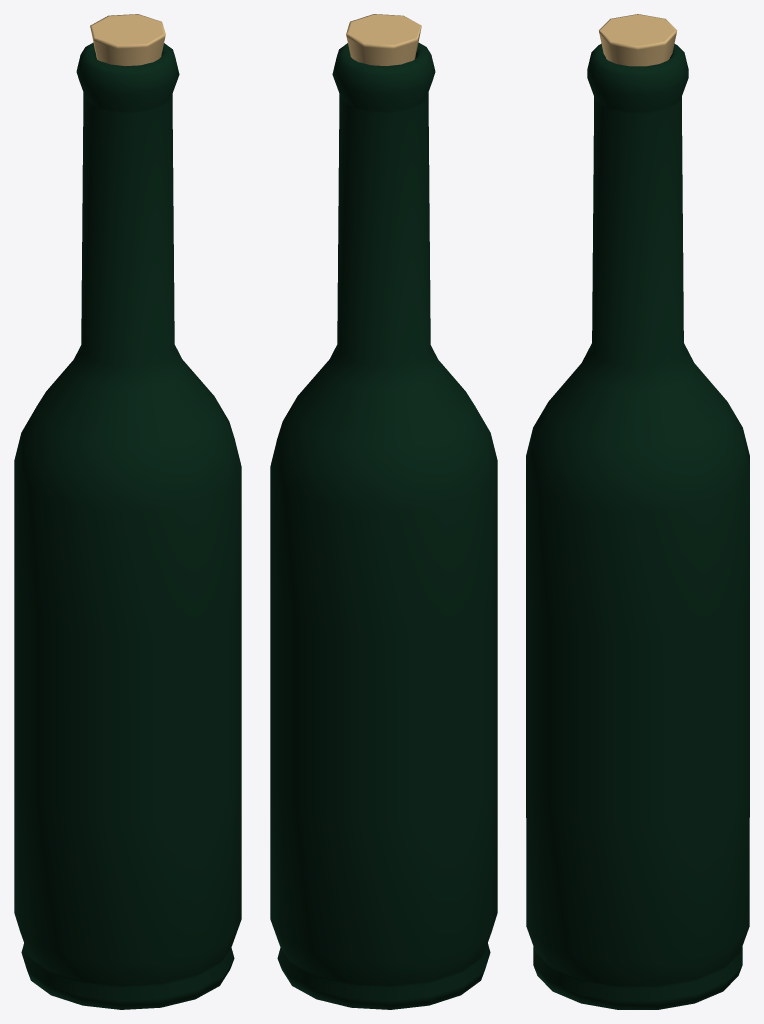
File: MeadBottle.fbx
The picture shows the model from 3 angles, left to right: view 1: azimuth 30°, elevation 25°; view 2: azimuth 150°, elevation 25°; view 3: azimuth 270°, elevation 25°; orthographic projection.
Visible parts, largest first — view 1: Bottle_LOD0; view 2: Bottle_LOD0; view 3: Bottle_LOD0.
Part boxes in pixels (x1,y1,x2,y2): Bottle_LOD0: (14, 14, 241, 1009); Bottle_LOD0: (270, 14, 497, 1009); Bottle_LOD0: (526, 14, 749, 1009).
Size of what is drawn, in the model's own units: 136 by 628 by 136.
